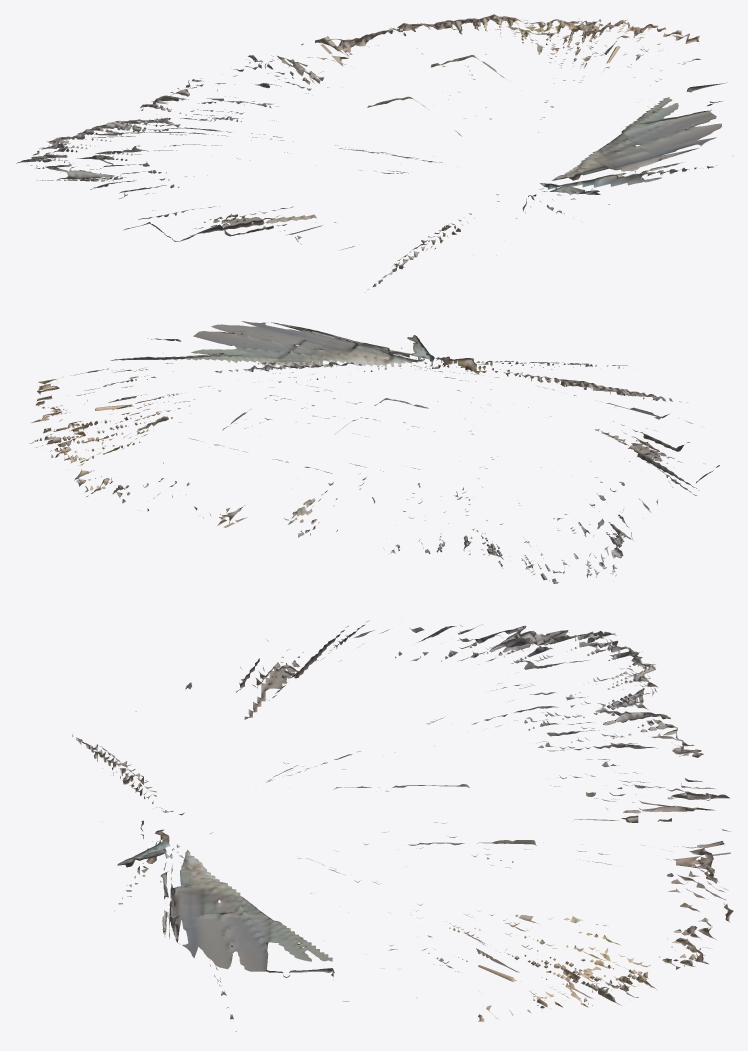
The model's file is gen-51.glb.
The picture shows the model from 3 angles, top to bottom: view 1: azimuth 30°, elevation 25°; view 2: azimuth 150°, elevation 25°; view 3: azimuth 270°, elevation 25°; orthographic projection. The views are drawn at different scales.
Visible parts, largest first — view 1: world; view 2: world; view 3: world.
Boxes of the visible parts, x1=… form: world: x1=16, y1=14, x2=733, y2=289; world: x1=29, y1=321, x2=719, y2=583; world: x1=72, y1=620, x2=733, y2=1031.
Bounding box in the file's own units: 107 × 9.67 × 78.09.
